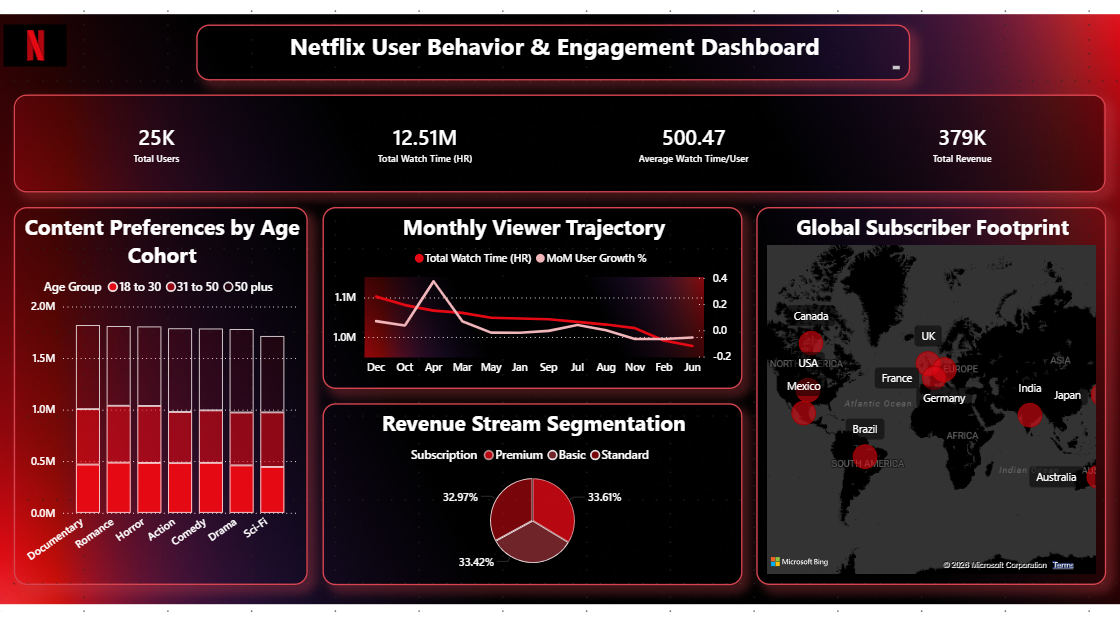

This screenshot's page, from the dashboard's own definition file:
{"tool":"powerbi","page":{"name":"Platform Engagement Insights","canvas":[1280,720],"ordinal":0},"visuals":[{"type":"image","box":[0,32,80,48],"z":0},{"type":"textbox","title":"Netflix User Behavior & Engagement Dashboard","box":[224,32,816,64],"z":1000},{"type":"lineChart","title":"Monthly Viewer Trajectory","fields":{"Category":["Date Table.Month"],"Y":["Netflix user data.Total Watch Time (HR)"],"Y2":["Netflix user data.MoM User Growth %"]},"box":[368,240,480,208],"z":2000},{"type":"pieChart","title":"Revenue Stream Segmentation","fields":{"Category":["Netflix user data.Subscription Type"],"Y":["Netflix user data.Total Users"]},"box":[368,464,480,208],"z":3000},{"type":"map","title":"Global Subscriber Footprint","fields":{"Category":["Netflix user data.Country"],"Size":["Netflix user data.Total Users"]},"box":[864,240,400,432],"z":4000},{"type":"columnChart","title":"Content Preferences by Age Cohort","fields":{"Category":["Netflix user data.Favorite Genre"],"Series":["Netflix user data.Age Group"],"Y":["Netflix user data.Total Watch Time (HR)"]},"box":[16,240,336,432],"z":5000},{"type":"cardVisual","fields":{"Data":["Netflix user data.Total Users","Netflix user data.Total Watch Time (HR)","Netflix user data.Average Watch Time Per User","Netflix user data.Total Revenue"]},"box":[16,112,1248,112],"z":6000}]}

Visuals, with their boxes in screenshot pixels (x1, y1, x2, y2), scaled from the page's 1280x720 canvas onto the 1120x621 screenshot:
image: <box>0,28,70,69</box>
"Netflix User Behavior & Engagement Dashboard" textbox: <box>196,28,910,83</box>
"Monthly Viewer Trajectory" lineChart: <box>322,207,742,386</box>
"Revenue Stream Segmentation" pieChart: <box>322,400,742,580</box>
"Global Subscriber Footprint" map: <box>756,207,1106,580</box>
"Content Preferences by Age Cohort" columnChart: <box>14,207,308,580</box>
cardVisual - Netflix user data.Total Users x Netflix user data.Total Watch Time (HR): <box>14,97,1106,193</box>
